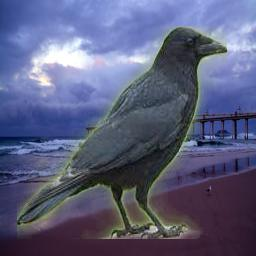Crow: (17, 27, 227, 240)
